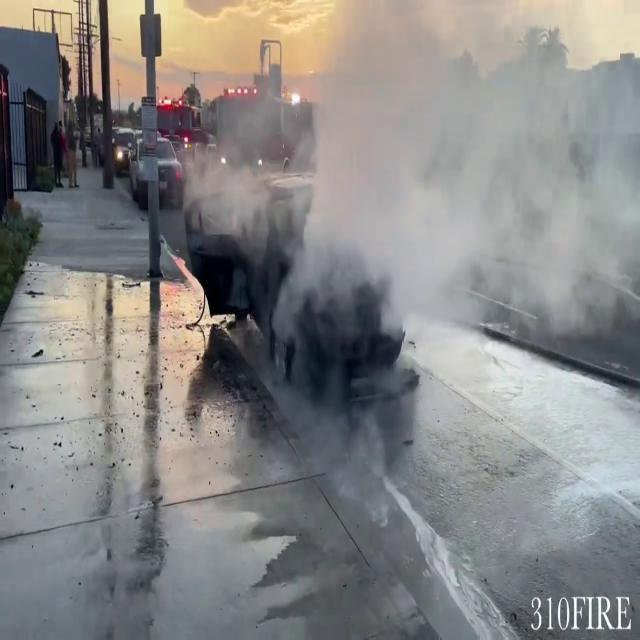Smoke: (246, 0, 640, 387)
